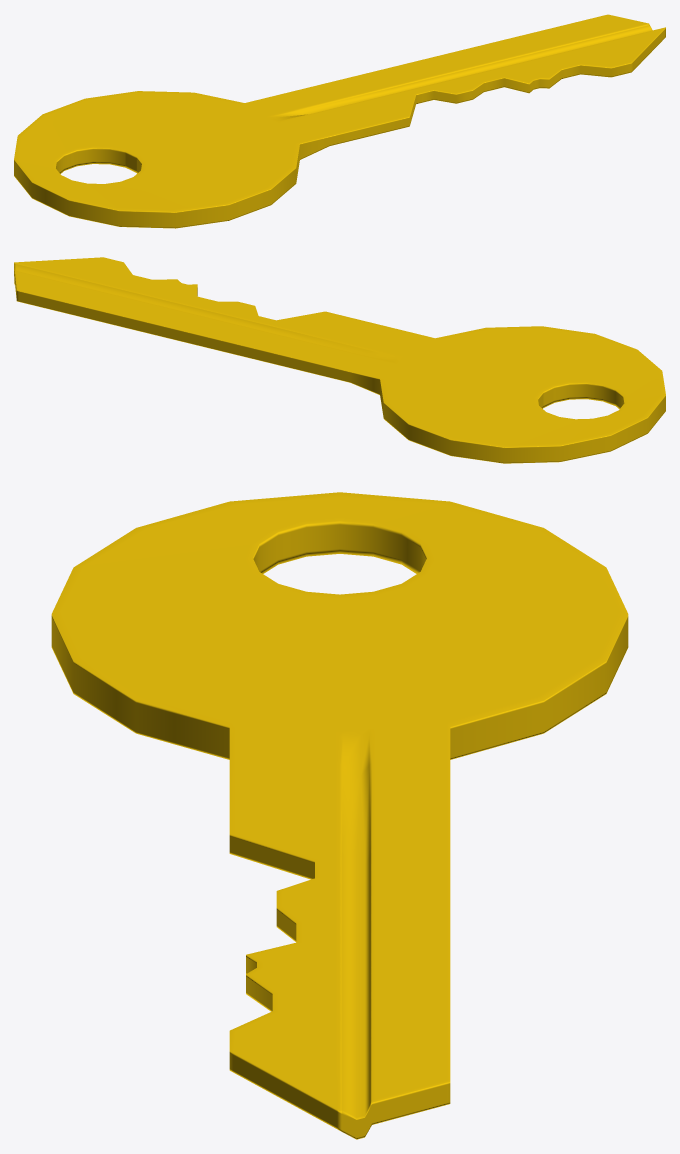
Rendered from Key.fbx.
The picture shows the model from 3 angles, top to bottom: view 1: azimuth 30°, elevation 25°; view 2: azimuth 150°, elevation 25°; view 3: azimuth 270°, elevation 25°; orthographic projection. The views are drawn at different scales.
Visible parts, largest first — view 1: Cylinder; view 2: Cylinder; view 3: Cylinder.
Boxes of the visible parts, x1,y1,x2,y2 form: Cylinder: [14, 14, 665, 228]; Cylinder: [14, 257, 665, 463]; Cylinder: [51, 492, 628, 1139].
Size of the model in its own units: 508 by 12.74 by 200.
